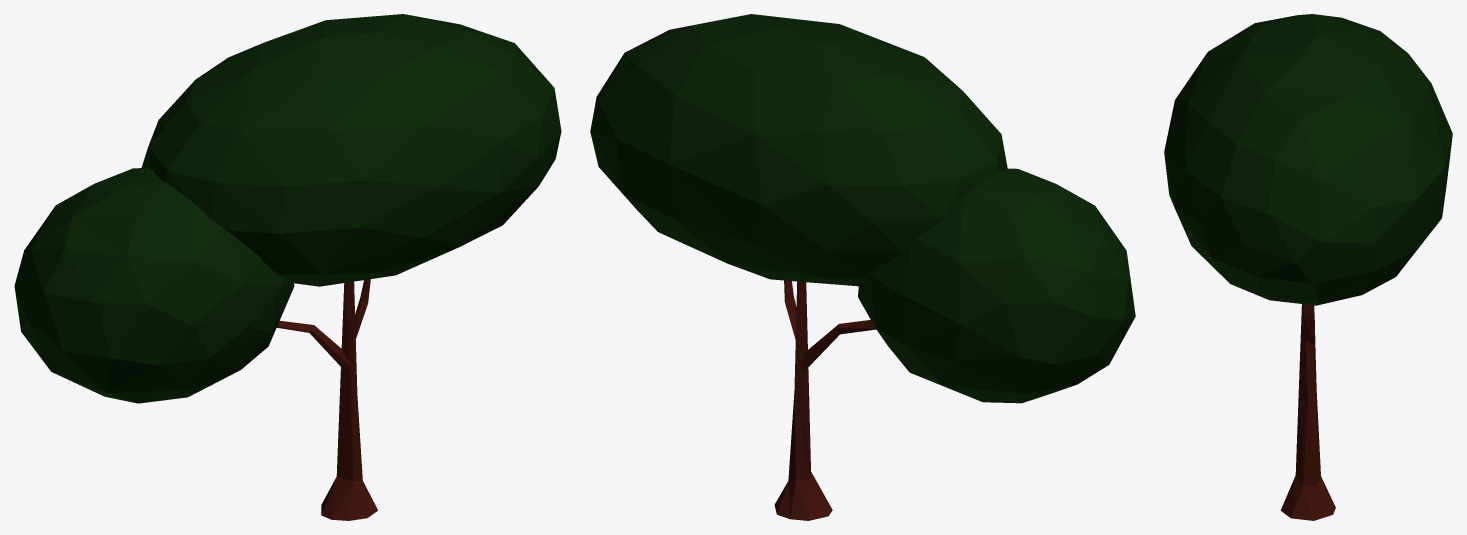
3 views of the same model, side by side, from view 1: azimuth 30°, elevation 25°; view 2: azimuth 150°, elevation 25°; view 3: azimuth 270°, elevation 25° (orthographic). The views are drawn at different scales.
Visible parts, largest first — view 1: skpE40 (×4); view 2: skpE40 (×4); view 3: skpE40 (×3).
Boxes of the visible parts, x1=… form: skpE40 (×4): x1=14, y1=14, x2=561, y2=520; skpE40 (×4): x1=590, y1=14, x2=1135, y2=520; skpE40 (×3): x1=1164, y1=14, x2=1452, y2=520.
Bounding box in the file's own units: 161 × 78.67 × 139.
